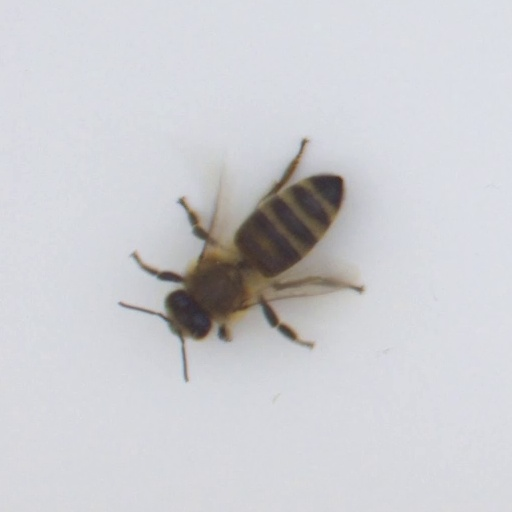Bee: (164, 174, 346, 339)
Thorax: (188, 262, 244, 314)
